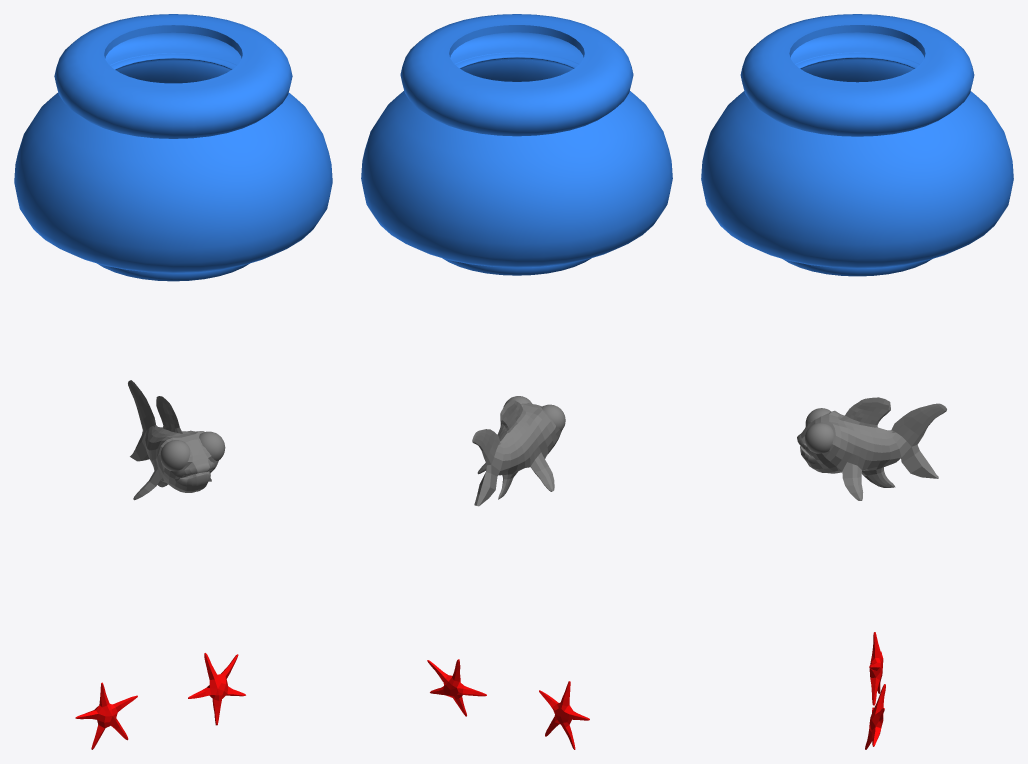
Rendered from why isnt this workinguh.obj.
3 renders of one model, left to right at view 1: azimuth 30°, elevation 25°; view 2: azimuth 150°, elevation 25°; view 3: azimuth 270°, elevation 25°, orthographic. The views are drawn at different scales.
Visible parts, largest first — view 1: fishbowl, fish, starfish1, starfish2, fish eye1; view 2: fishbowl, fish, starfish1, starfish2; view 3: fishbowl, fish, fish eye2, starfish1, starfish2.
Boxes of the visible parts, bbox=[...] form: fishbowl: bbox=[14, 14, 332, 281]; fish: bbox=[128, 380, 218, 500]; starfish1: bbox=[75, 682, 137, 749]; starfish2: bbox=[188, 653, 245, 725]; fish eye1: bbox=[160, 440, 190, 471]; fishbowl: bbox=[361, 14, 672, 275]; fish: bbox=[472, 400, 561, 506]; starfish1: bbox=[539, 681, 589, 749]; starfish2: bbox=[427, 659, 486, 716]; fishbowl: bbox=[701, 14, 1013, 276]; fish: bbox=[797, 397, 946, 500]; fish eye2: bbox=[805, 422, 833, 453]; starfish1: bbox=[869, 632, 883, 705]; starfish2: bbox=[865, 684, 885, 749].
Size of the model in its own units: 14.67 by 35.03 by 14.73.
